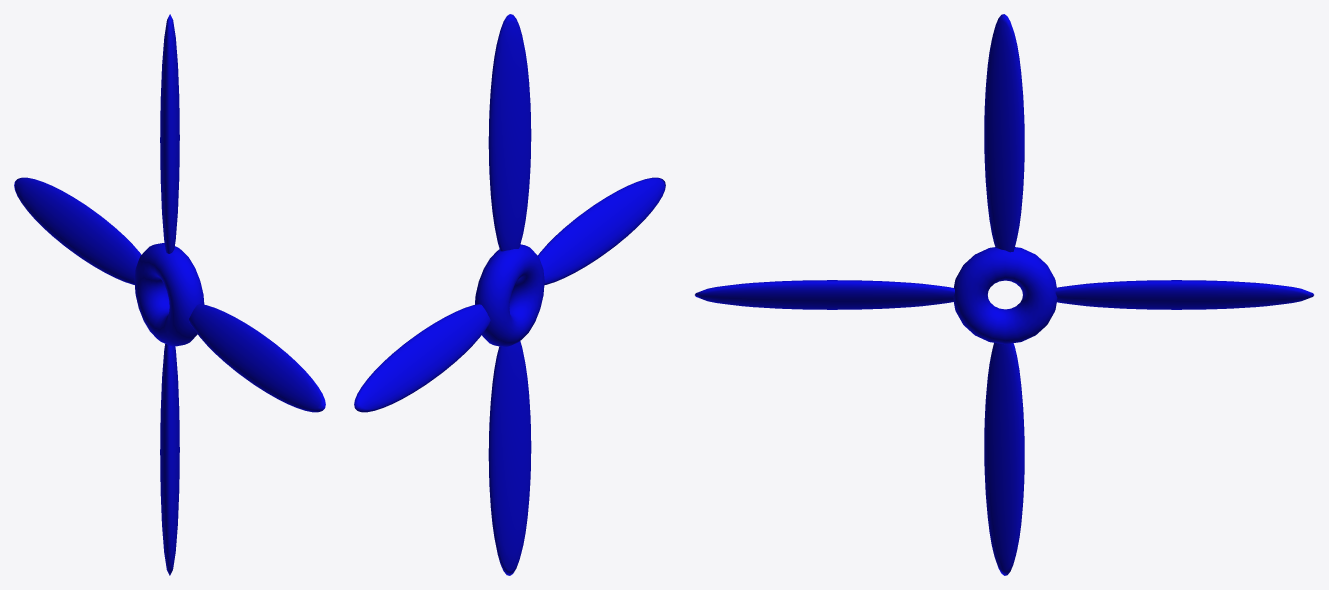
The model's file is propellor.fbx.
The picture shows the model from 3 angles, left to right: view 1: azimuth 30°, elevation 25°; view 2: azimuth 150°, elevation 25°; view 3: azimuth 270°, elevation 25°; orthographic projection.
Parts seen in each view (by area): view 1: polySurface35; view 2: polySurface35; view 3: polySurface35.
Part boxes in pixels (x1=…): polySurface35: x1=14, y1=14, x2=325, y2=575; polySurface35: x1=354, y1=14, x2=665, y2=575; polySurface35: x1=695, y1=14, x2=1313, y2=575.
Size of the model in its own units: 0.0419 by 0.738 by 0.738.
